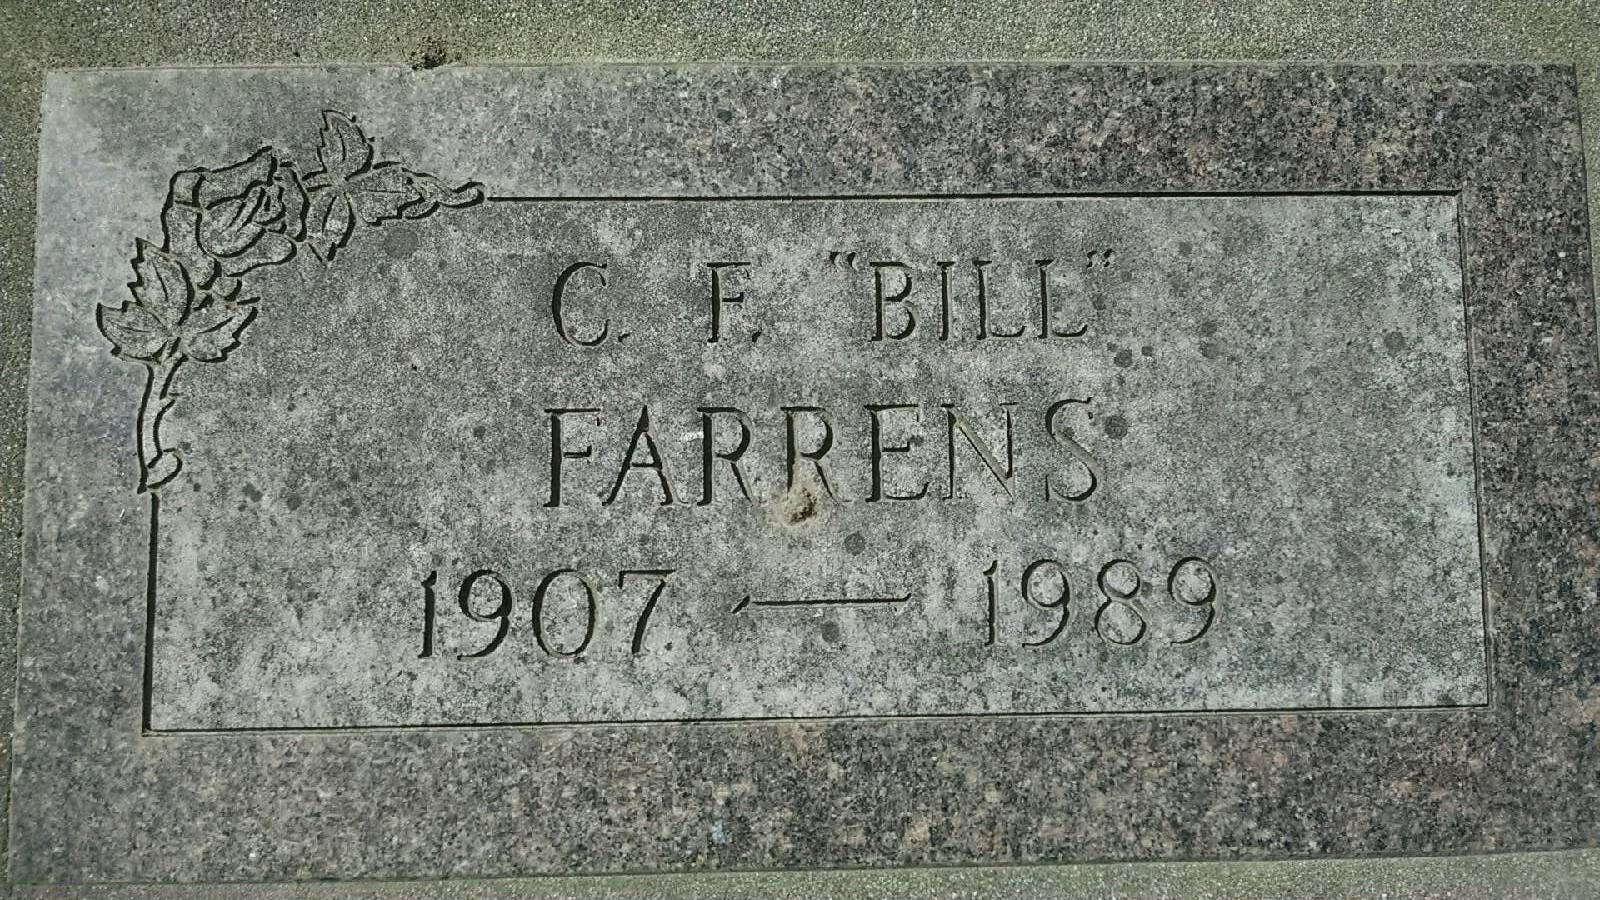flat: (7, 42, 1589, 880)
